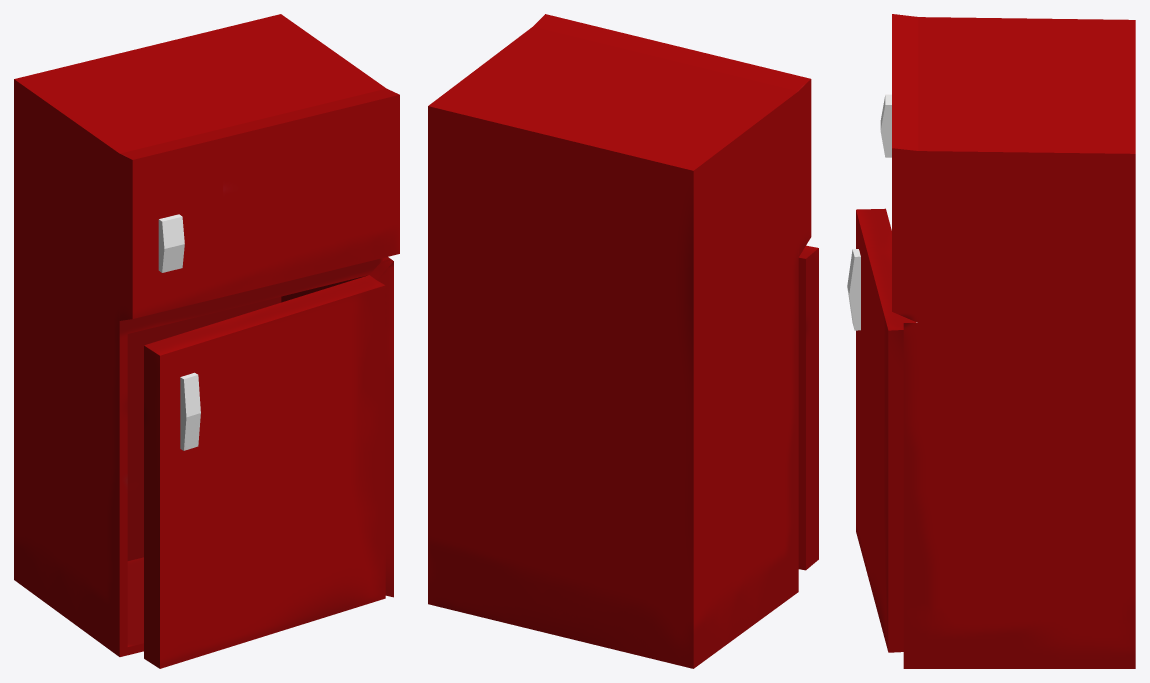
The model's file is Refrigerador_prefab.fbx.
The picture shows the model from 3 angles, left to right: view 1: azimuth 30°, elevation 25°; view 2: azimuth 150°, elevation 25°; view 3: azimuth 270°, elevation 25°; orthographic projection. The views are drawn at different scales.
Parts seen in each view (by area): view 1: Cube; view 2: Cube; view 3: Cube.
Boxes of the visible parts, <box> form: Cube: <box>14,14,399,668</box>; Cube: <box>428,14,818,668</box>; Cube: <box>847,14,1135,668</box>.
Size of the model in its own units: 217 by 392 by 197.
Materials: 1 (1 with a texture image).
